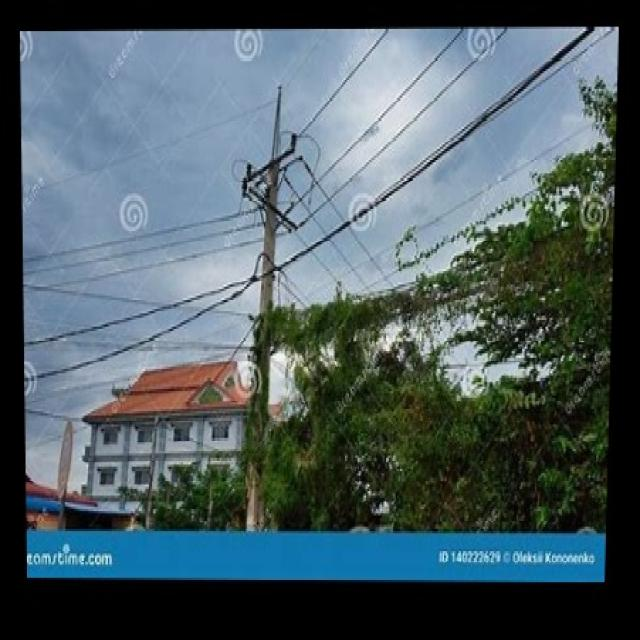critical vegetation: (260, 263, 610, 428)
